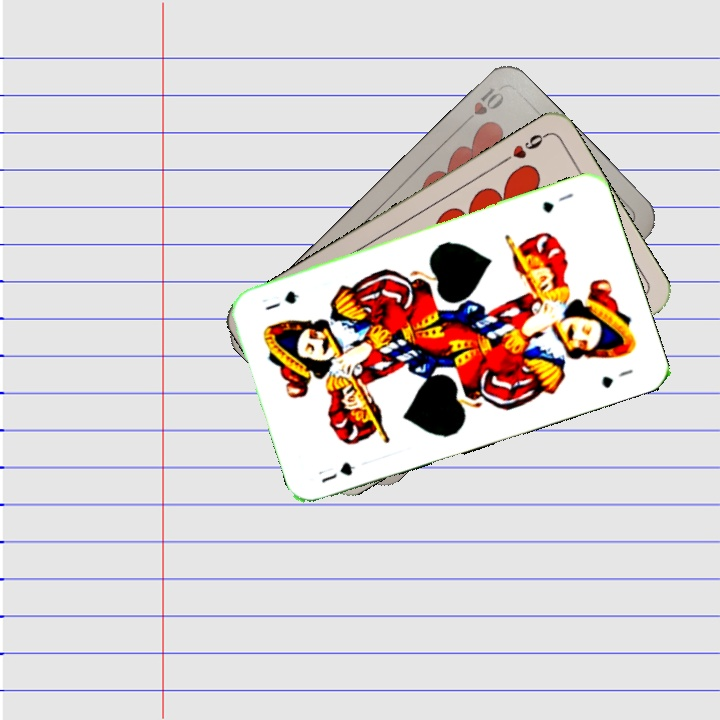GU: (314, 458, 358, 486), (538, 188, 576, 215)
H10: (457, 83, 507, 129)
H9: (497, 129, 550, 167)
